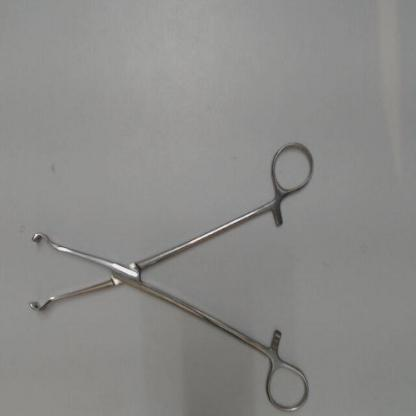8 Babcock Tissue Forceps: (20, 128, 321, 415)
